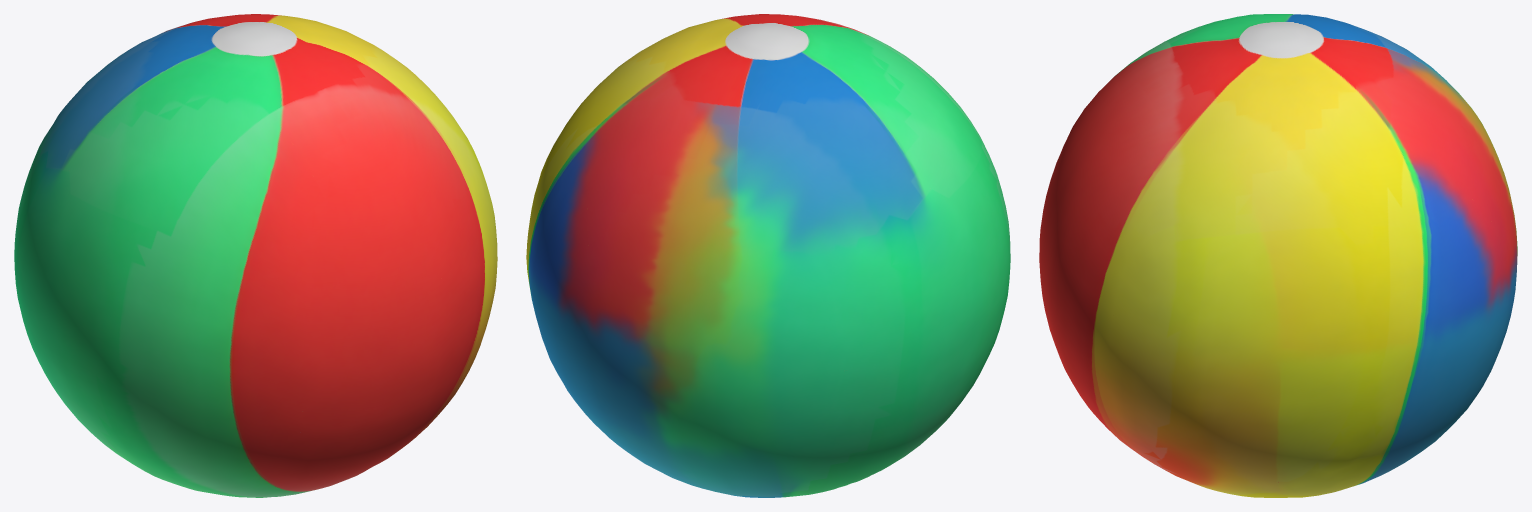
File: Meshy_AI_Beach_Ball_Fantasy_0111141257_texture.fbx
3 views of the same model, side by side, from view 1: azimuth 30°, elevation 25°; view 2: azimuth 150°, elevation 25°; view 3: azimuth 270°, elevation 25° (orthographic).
Visible parts, largest first — view 1: Mesh0; view 2: Mesh0; view 3: Mesh0.
Boxes of the visible parts, left/top/right/bottom form: Mesh0: left=14, top=14, right=497, bottom=497; Mesh0: left=526, top=14, right=1010, bottom=497; Mesh0: left=1039, top=14, right=1517, bottom=497.
Bounding box in the file's own units: 188 × 192 × 188.
Materials: 1 (1 with a texture image).
